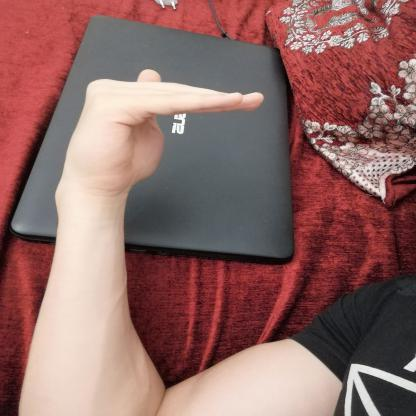KHAA: (41, 60, 282, 211)
